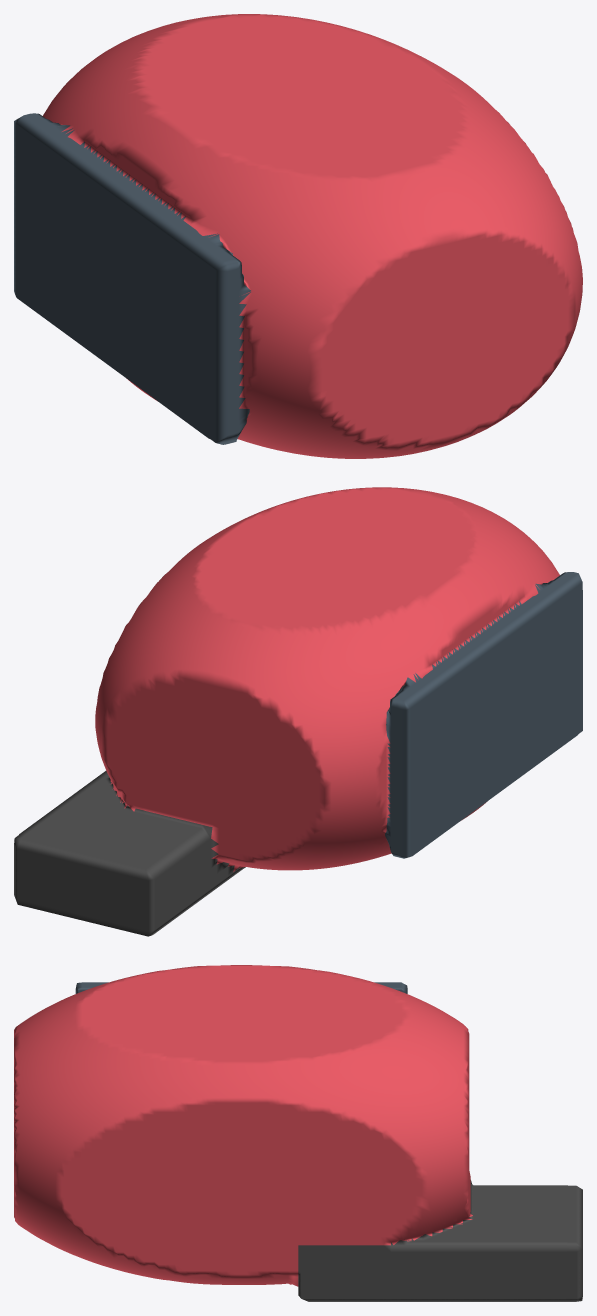
File: mirror_right.glb
The picture shows the model from 3 angles, top to bottom: view 1: azimuth 30°, elevation 25°; view 2: azimuth 150°, elevation 25°; view 3: azimuth 270°, elevation 25°; orthographic projection. The views are drawn at different scales.
Parts seen in each view (by area): view 1: mirror_right; view 2: mirror_right; view 3: mirror_right.
Part boxes in pixels (x1=…): mirror_right: x1=14, y1=14, x2=582, y2=458; mirror_right: x1=14, y1=487, x2=582, y2=936; mirror_right: x1=14, y1=965, x2=582, y2=1301.
Bounding box in the file's own units: 1.71 × 1.33 × 3.
